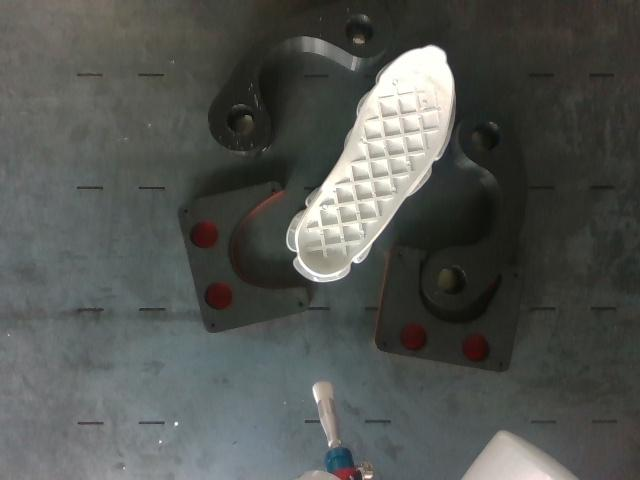shoes: (296, 47, 452, 276)
